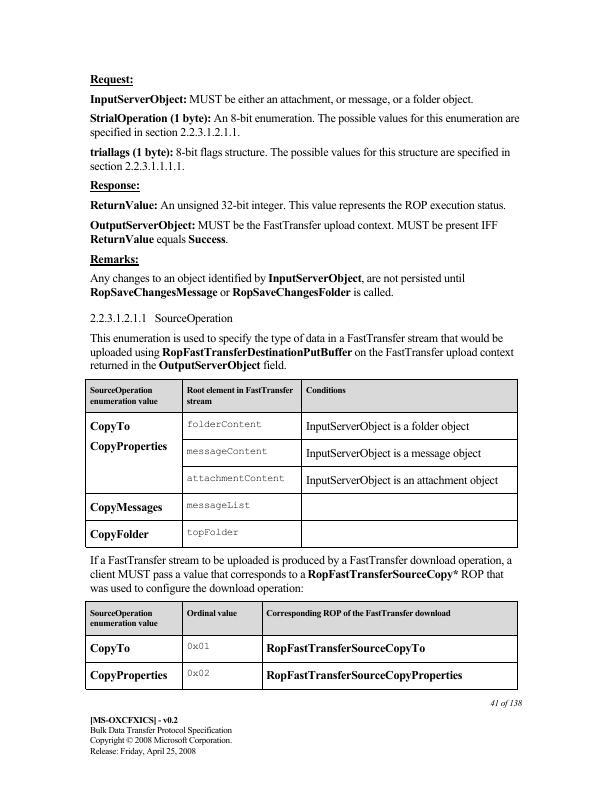table: (86, 376, 519, 549), (83, 600, 520, 694)
text: (85, 331, 515, 373), (82, 553, 515, 594), (87, 110, 522, 142), (85, 145, 510, 174), (86, 218, 500, 247), (85, 271, 469, 298), (86, 90, 476, 108), (85, 711, 236, 757), (86, 197, 509, 213), (85, 310, 236, 325), (85, 70, 138, 90), (86, 177, 143, 195), (85, 252, 145, 268), (484, 697, 527, 711)
